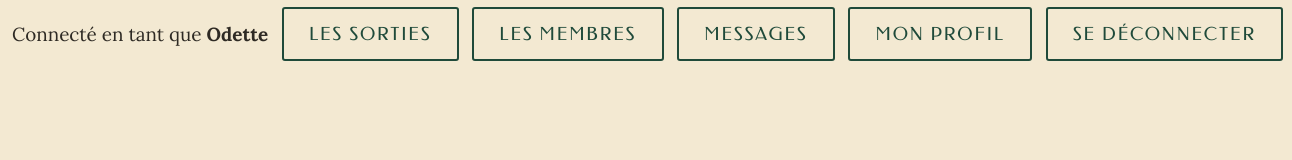
Test case: zone de session de l'en-tête › affiche le nom du membre et le déconnecte
Click the button "Se déconnecter" at (1164, 34), box [1046,7,1283,61]
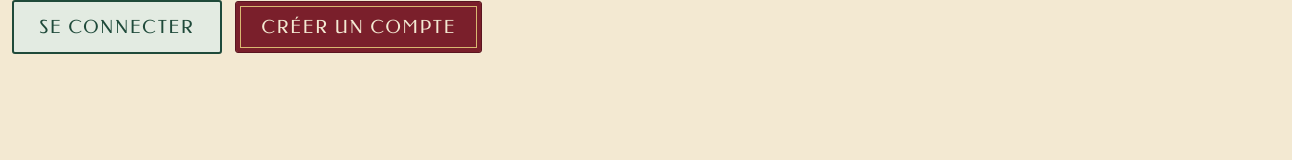
Now the text "Se connecter" is shown, box [12,0,222,54]
